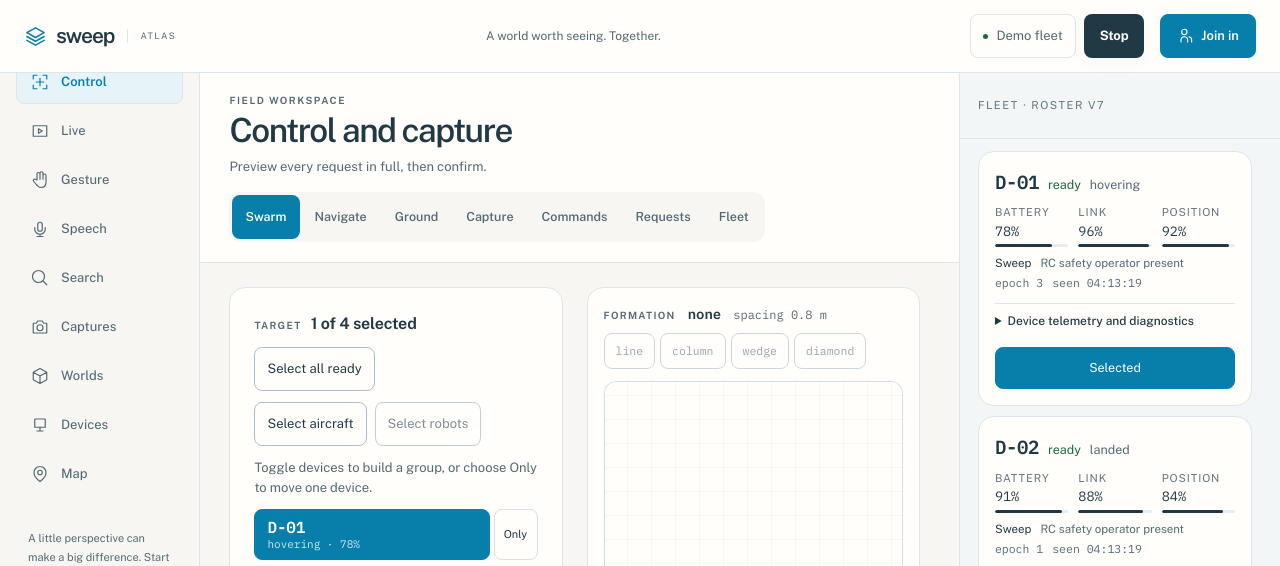
persistent shell › Devices keeps real health and configuration without a reference gallery
The width and height of the screenshot is (1280, 566).
(page scrolled)
Click the button "Devices" at (100, 425), box [16, 403, 183, 447]
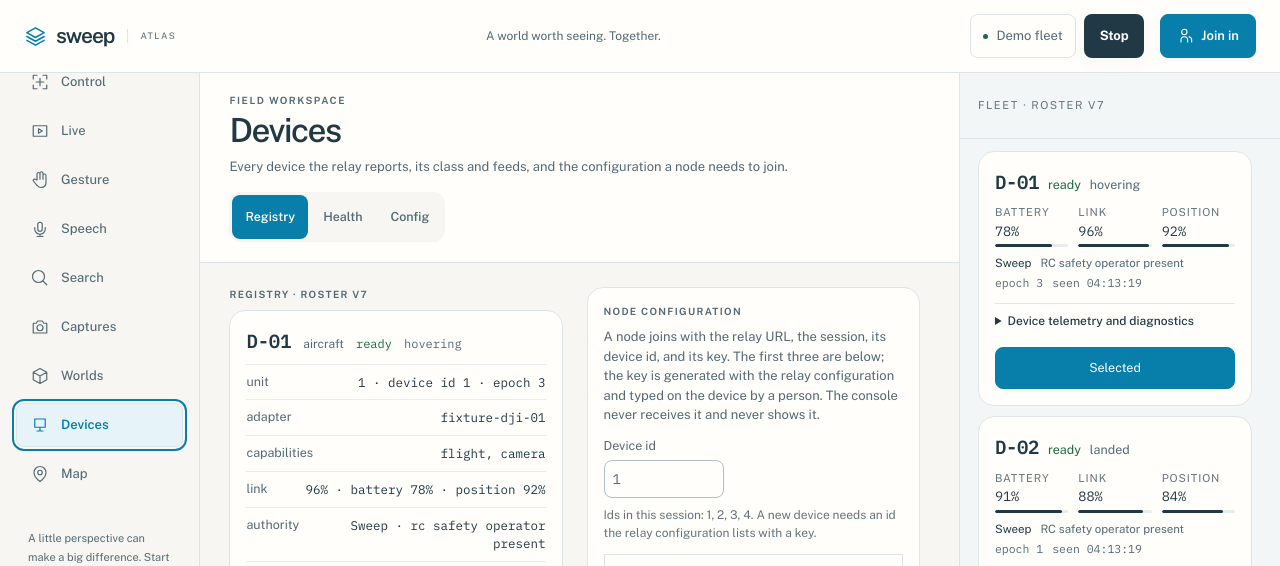
Expected: the buttons read "Registry", "Health", "Config", in this order
Click the button "Health" at (343, 217), box [310, 195, 376, 239]
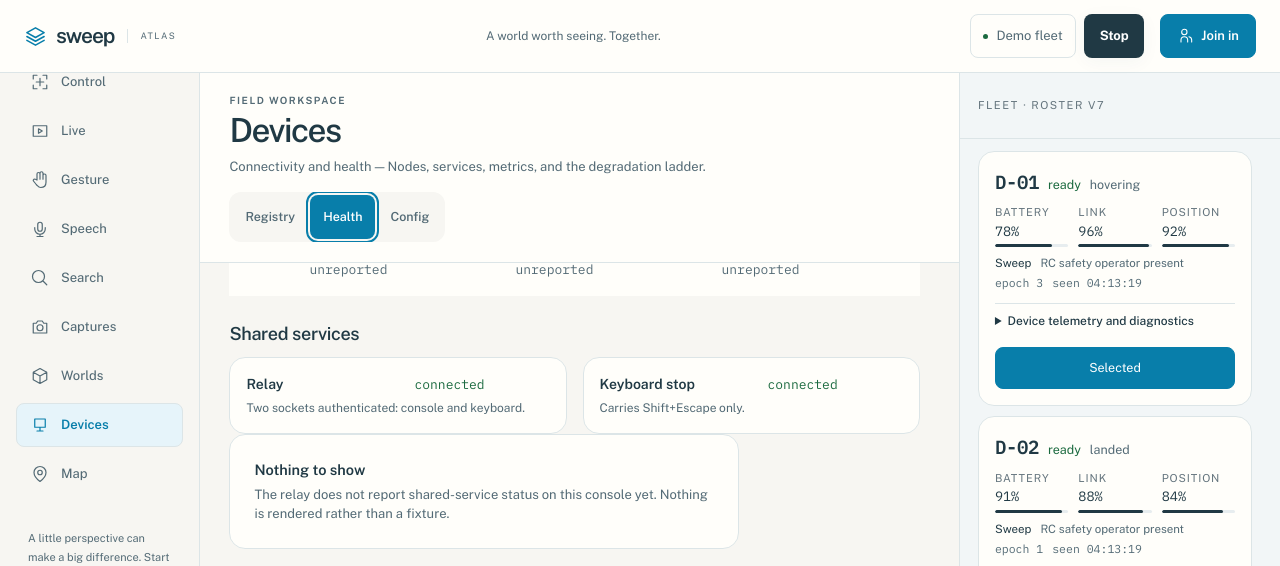
Expected: the heading "Devices" is shown, [229, 110, 340, 149]
Expected: the text "Connectivity and health — Nodes, services, metrics" is shown, [229, 159, 706, 174]
Expected: the text "does not report shared-service status" shows "Nothing to show", [254, 461, 365, 478]
